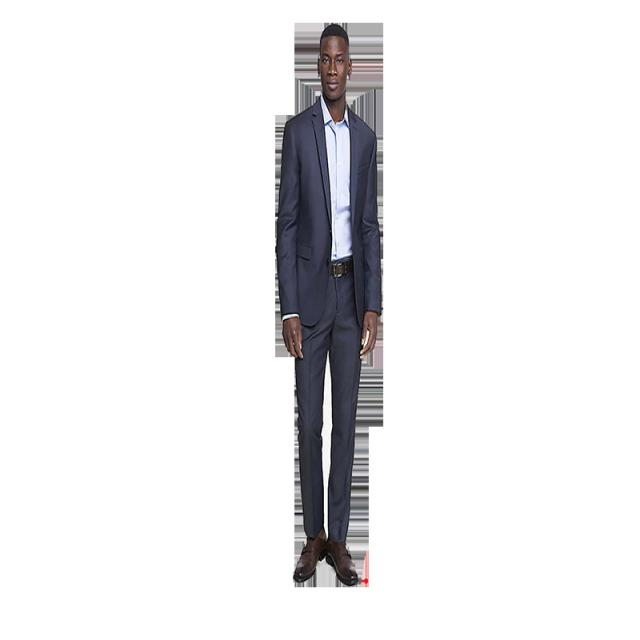jovem: (273, 21, 397, 606)
